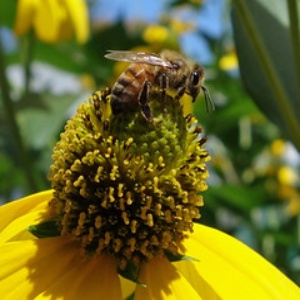bee: (100, 46, 216, 124)
